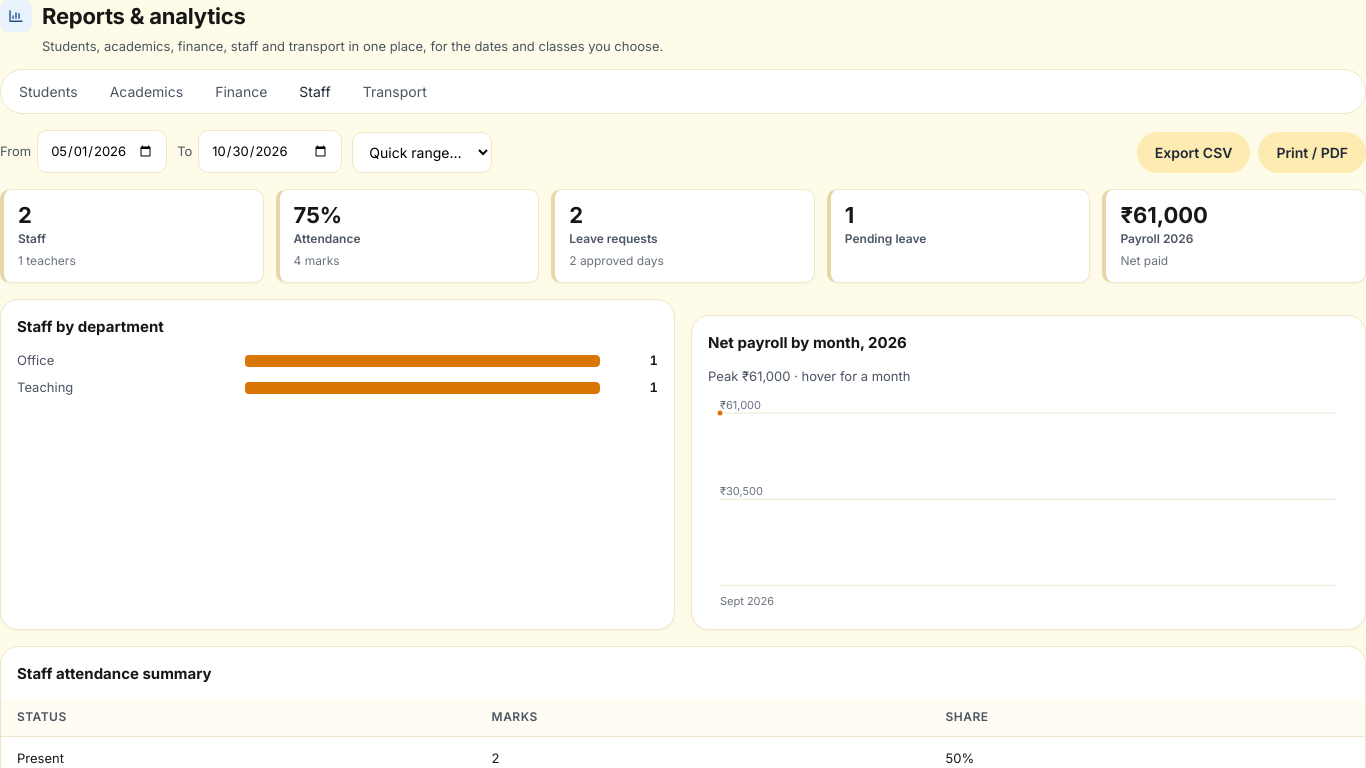
Test case: reports dashboard › explains a backwards date range instead of loading
Type "2026-12-01" into the date field labelled "From".
click(102, 151); type("2026-12-01")  # box [37, 130, 167, 173]
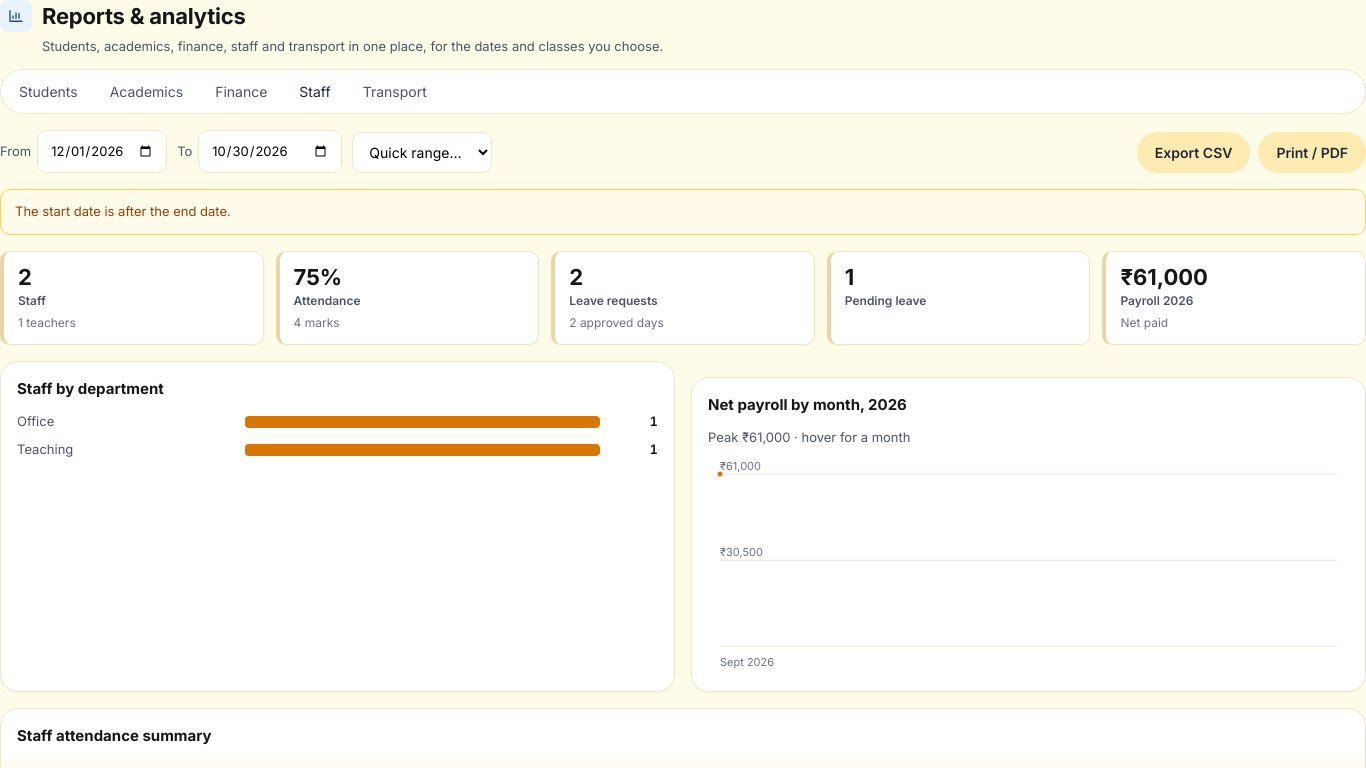
Check: the text "The start date is after the end date." is shown, box [0, 189, 1365, 234]
